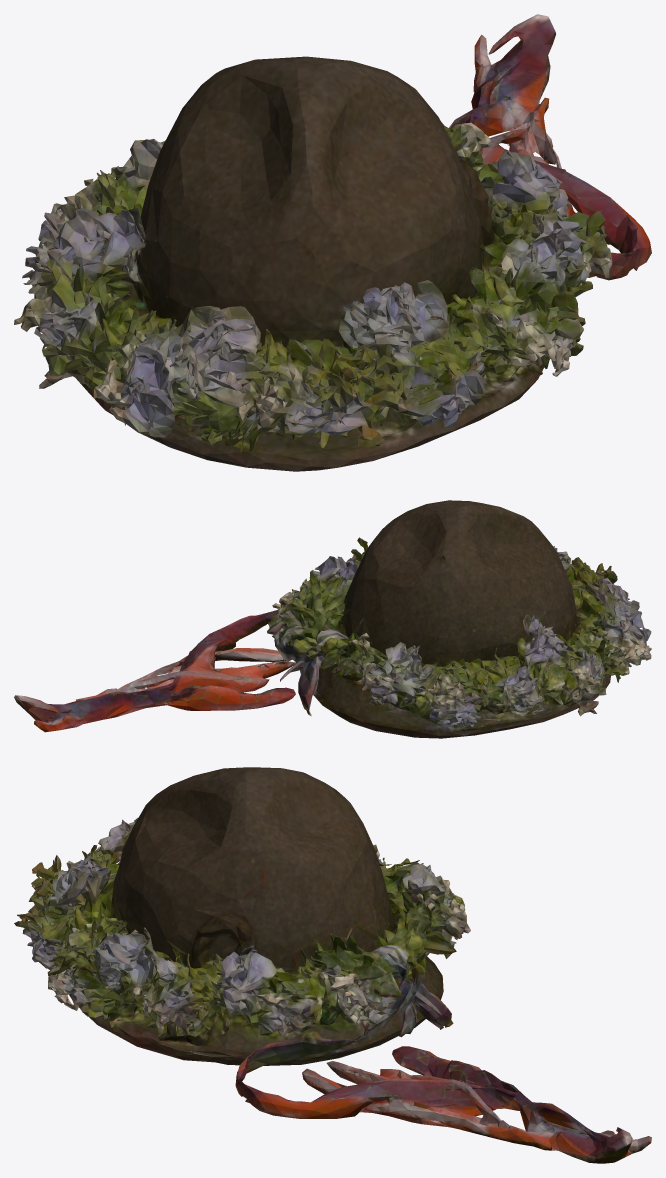
3 renders of one model, top to bottom at view 1: azimuth 30°, elevation 25°; view 2: azimuth 150°, elevation 25°; view 3: azimuth 270°, elevation 25°, orthographic. The views are drawn at different scales.
Parts seen in each view (by area): view 1: Blumenkranz_40k_1k; view 2: Blumenkranz_40k_1k; view 3: Blumenkranz_40k_1k.
Boxes of the visible parts, box(x1,y1,x2,y2) form: Blumenkranz_40k_1k: box(14, 14, 651, 471); Blumenkranz_40k_1k: box(14, 500, 651, 738); Blumenkranz_40k_1k: box(14, 767, 651, 1163).
Bounding box in the file's own units: 0.4316 × 0.1627 × 0.4202.
Materials: 1 (1 with a texture image).
